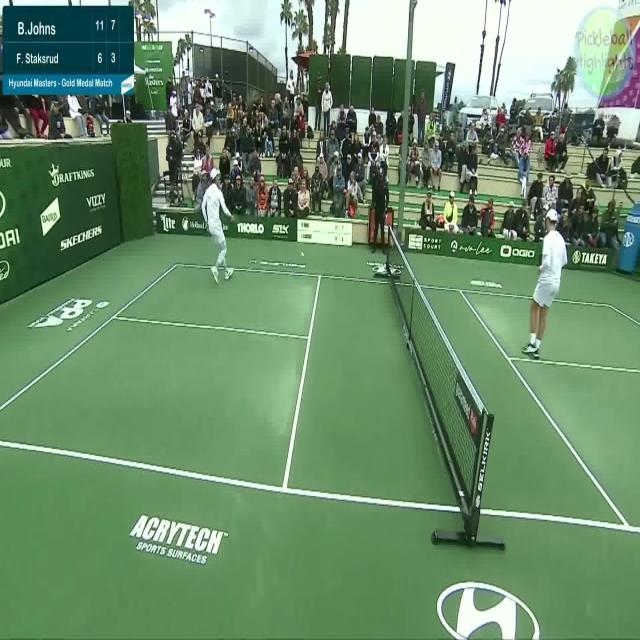ball: (300, 248, 305, 258)
